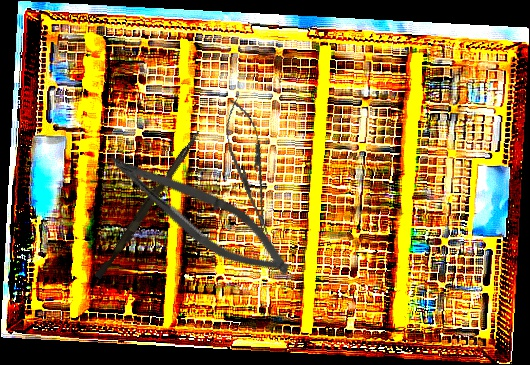Micro Scissor: (93, 140, 304, 290)
Needle Holder: (217, 95, 281, 240)
Pusher: (94, 126, 202, 282)
